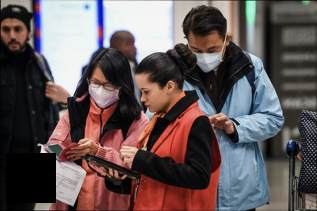with_mask: (189, 42, 224, 77), (86, 75, 120, 111)
without_mask: (135, 84, 166, 115)
